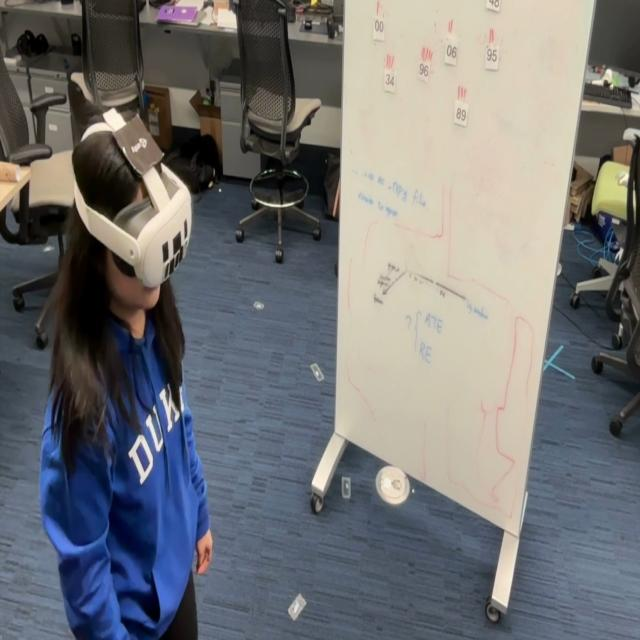Headset: (71, 110, 193, 289)
UnityLogo: (110, 110, 165, 179)
